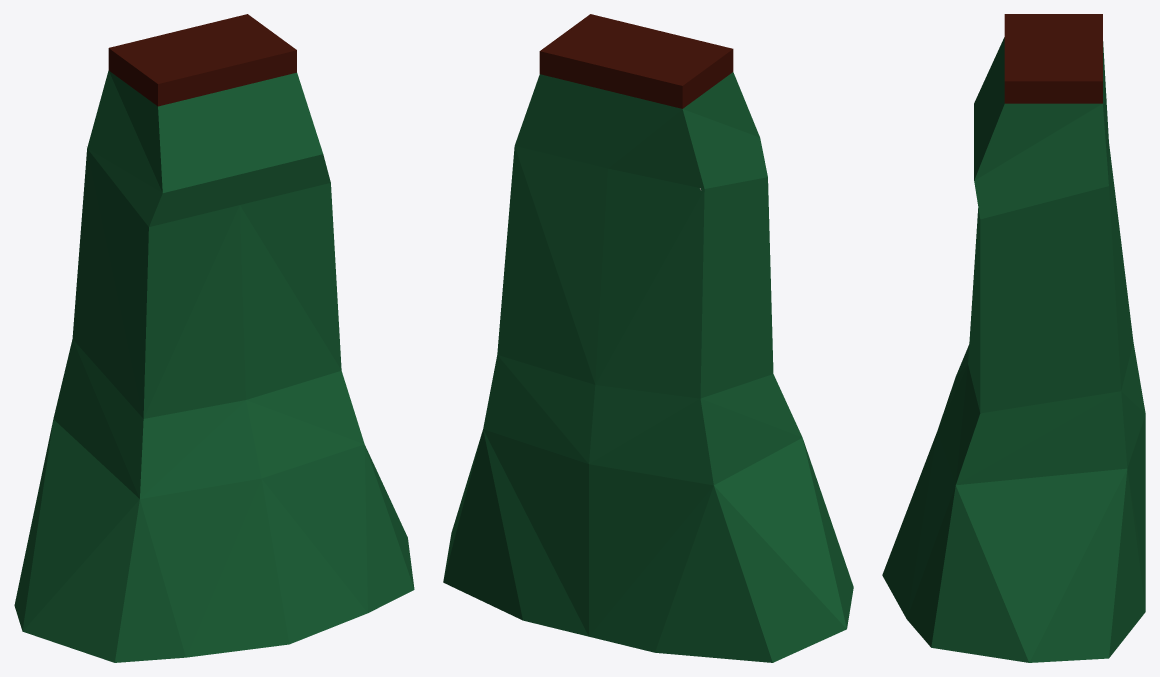
File: npc_world_spice_seller_5.obj
The picture shows the model from 3 angles, left to right: view 1: azimuth 30°, elevation 25°; view 2: azimuth 150°, elevation 25°; view 3: azimuth 270°, elevation 25°; orthographic projection. The views are drawn at different scales.
Bounding box in the file's own units: 0.5625 × 0.75 × 0.3359.
